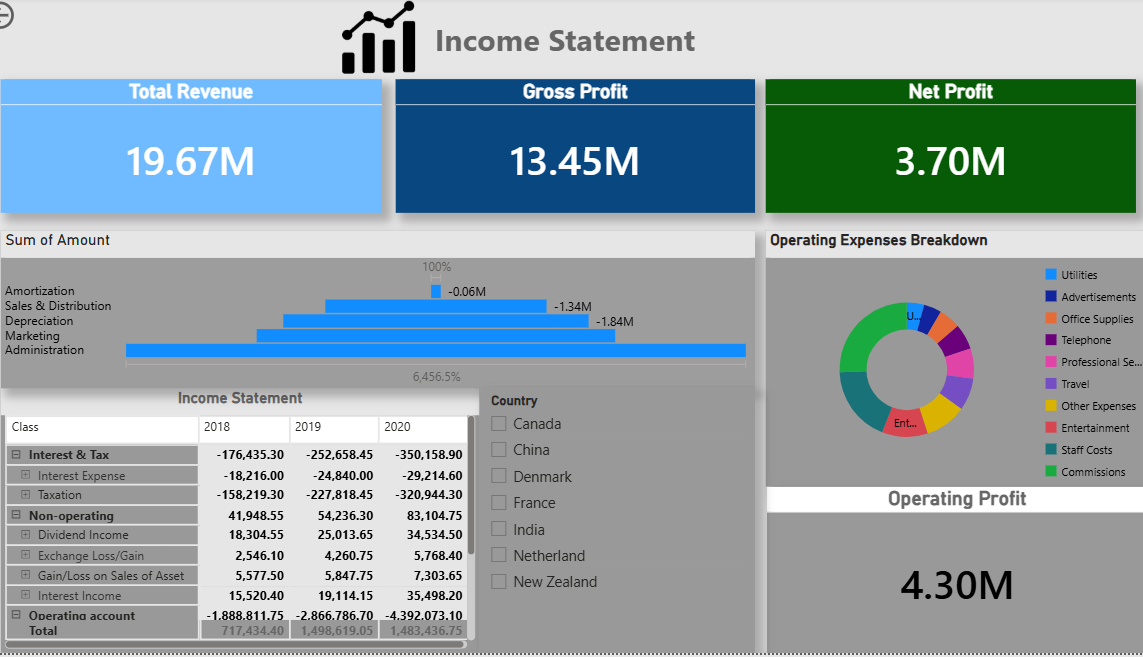

What the dashboard file says about the page in this screenshot:
{"tool":"powerbi","page":{"name":"Income Statement","canvas":[1280,720],"ordinal":1},"visuals":[{"type":"pivotTable","title":"Income Statement","fields":{"Rows":["Chart of Accounts.Class","Chart of Accounts.SubClass","Chart of Accounts.SubClass2","Chart of Accounts.Account"],"Columns":["Calendar.Date.Variation.Date Hierarchy.Year","Calendar.Date.Variation.Date Hierarchy.Quarter","Calendar.Date.Variation.Date Hierarchy.Month","Calendar.Date.Variation.Date Hierarchy.Day"],"Values":["Sum(GL.Amount)"]},"box":[20.2,430,525.8,290.6],"z":0},{"type":"shape","box":[0,0,1280,90.7],"z":1000},{"type":"funnel","title":"Sum of Amount ","fields":{"Category":["Chart of Accounts.SubClass2"],"Y":["Sum(GL.Amount)"]},"box":[20.2,257,828.1,173],"z":2000},{"type":"doubleDonut2B2DE03D219E04DFF80684A45ECA4D25E","title":"Operating Expenses Breakdown","fields":{"value":["Sum(GL.Amount)"],"category":["Chart of Accounts.Account"]},"box":[860.1,257,419.9,280.5],"z":3000},{"type":"cardVisual","title":"Total Revenue","fields":{"Data":["GL.SalesFTP"]},"box":[20.2,90.7,418.3,146.1],"z":4000},{"type":"cardVisual","title":"Gross Profit","fields":{"Data":["GL.Gross Profit"]},"box":[453.5,90.7,394.8,146.1],"z":5000},{"type":"cardVisual","title":"Net Profit","fields":{"Data":["GL.Net Profit"]},"box":[860.1,90.7,406.5,146.1],"z":6000},{"type":"cardVisual","title":"Operating Profit","fields":{"Data":["GL.Operating profit 2"]},"box":[861.7,537.5,418.3,183.1],"z":7000},{"type":"actionButton","box":[0,0,100,40],"z":8000},{"type":"slicer","fields":{"Values":["Territory.Country"]},"box":[546,430,302,290],"z":9000},{"type":"image","box":[381.3,1.7,107.5,85.7],"z":10000}]}

Visuals, with their boxes in screenshot pixels (x1, y1, x2, y2), scaled from the page's 1280x720 canvas onto the 1143x657 screenshot:
"Income Statement" pivotTable: 18 392 488 656
shape: 0 0 1142 83
"Sum of Amount " funnel: 18 235 758 392
"Operating Expenses Breakdown" doubleDonut2B2DE03D219E04DFF80684A45ECA4D25E: 768 235 1142 490
"Total Revenue" cardVisual: 18 83 392 216
"Gross Profit" cardVisual: 405 83 758 216
"Net Profit" cardVisual: 768 83 1131 216
"Operating Profit" cardVisual: 769 490 1142 656
actionButton: 0 0 89 36
slicer - Territory.Country: 488 392 757 656
image: 340 2 436 80
